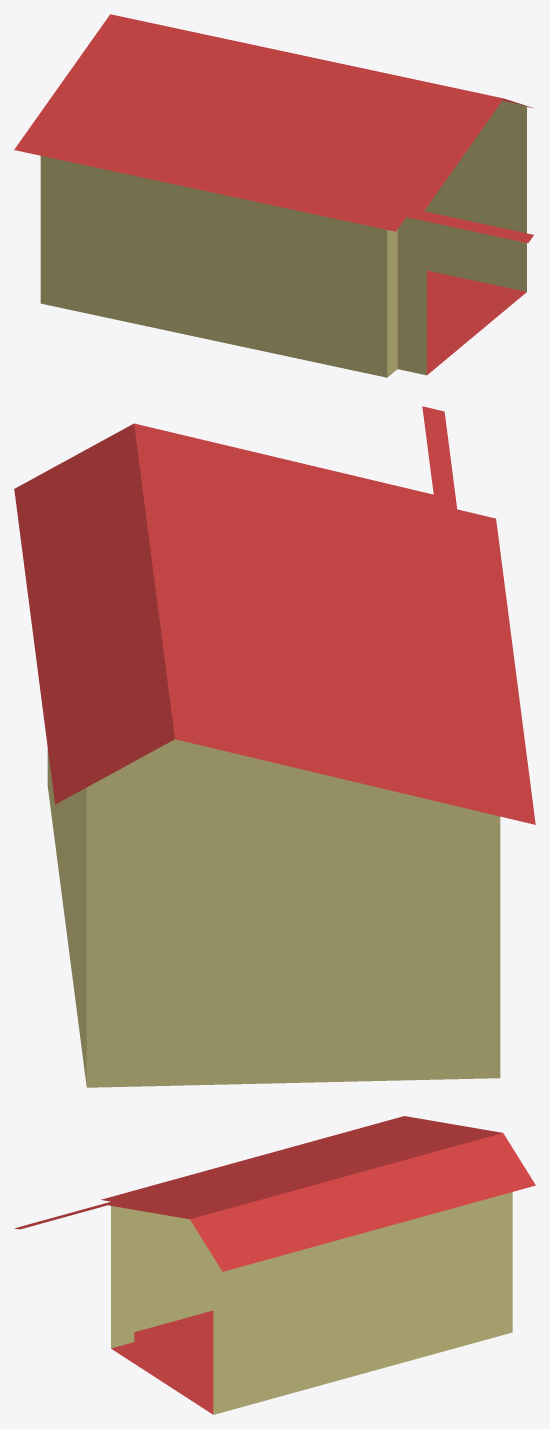
3 views of the same model, one above another, from view 1: azimuth 30°, elevation 25°; view 2: azimuth 150°, elevation 25°; view 3: azimuth 270°, elevation 25° (orthographic). The views are drawn at different scales.
Bounding box in the file's own units: 18.17 × 23.36 × 8.9.
